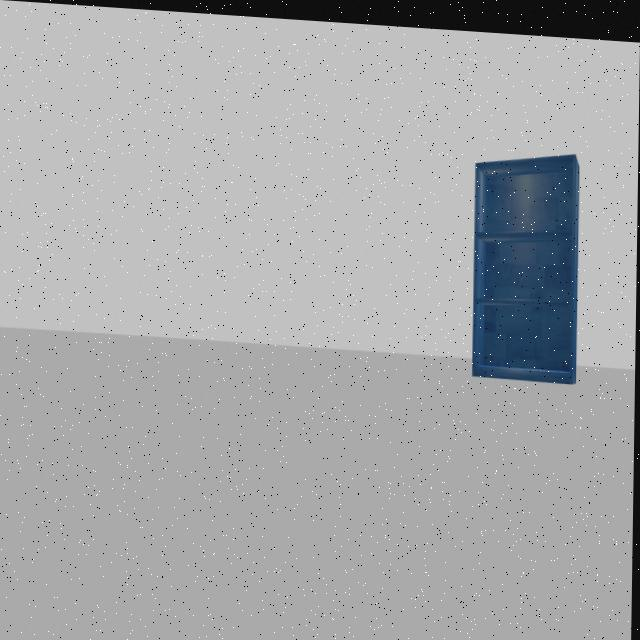shelf: (464, 122, 591, 396)
